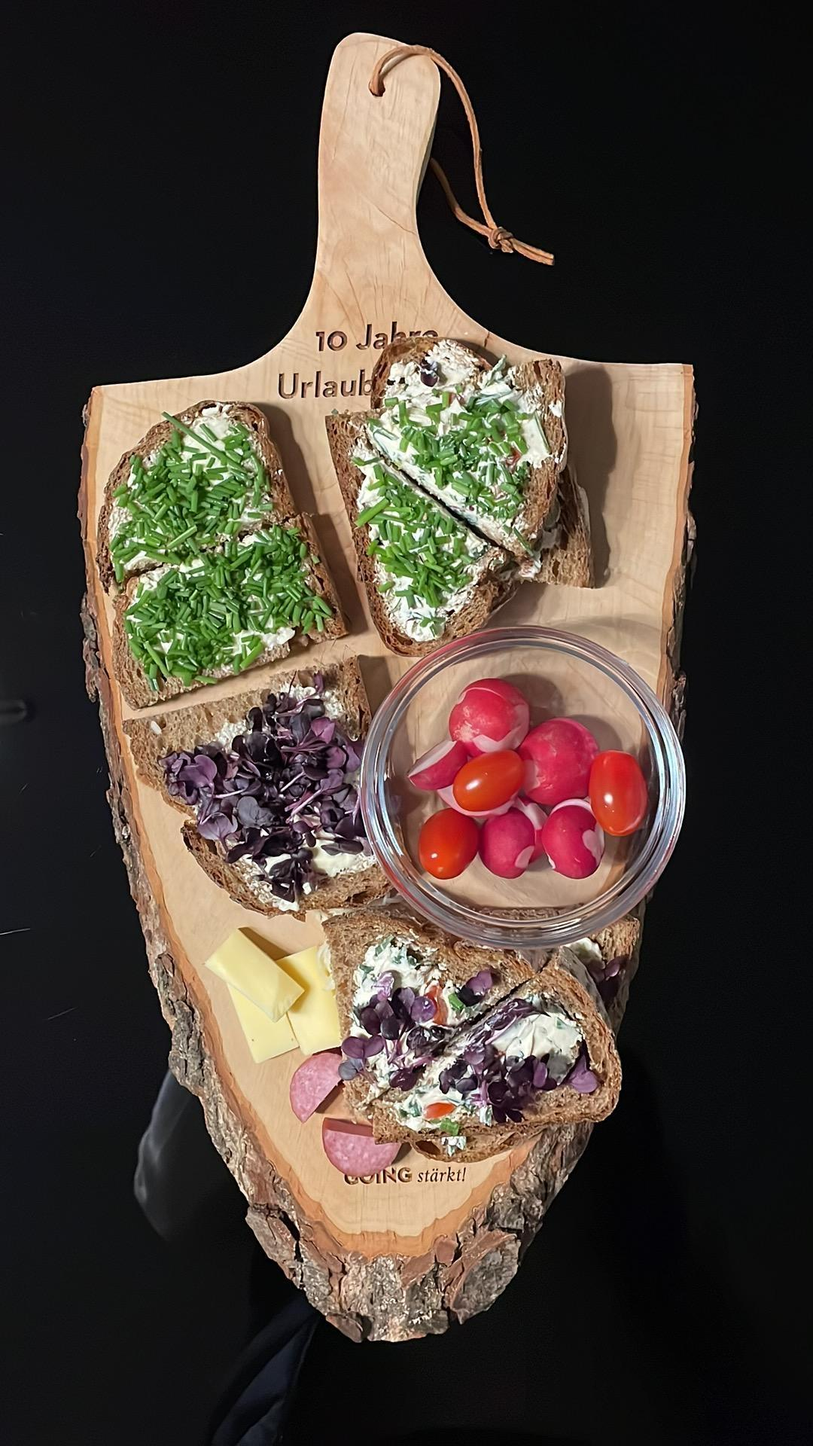radish: (517, 717, 602, 803), (451, 679, 527, 755), (544, 795, 608, 879), (479, 812, 539, 877), (408, 739, 460, 788)
tomato: (589, 747, 650, 833), (416, 808, 480, 881)
